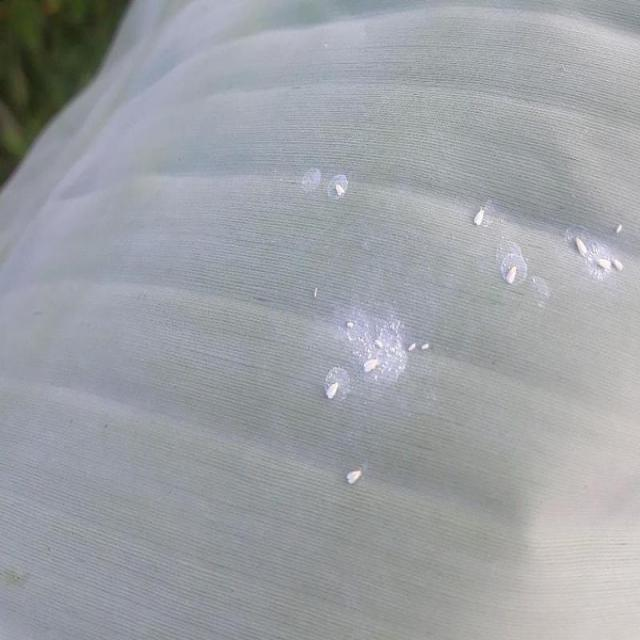Whitefly: (309, 306, 424, 410), (464, 197, 550, 313), (568, 213, 634, 281), (318, 148, 361, 214), (337, 449, 379, 506)
